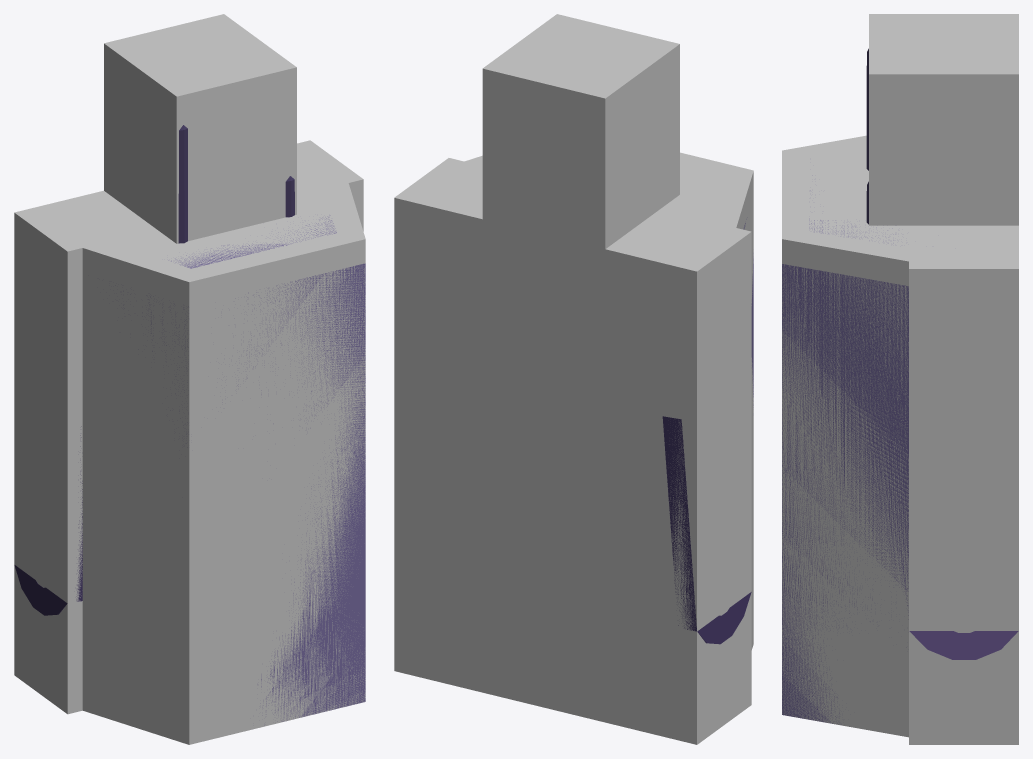
File: SM_Light_Box_01.fbx
The picture shows the model from 3 angles, left to right: view 1: azimuth 30°, elevation 25°; view 2: azimuth 150°, elevation 25°; view 3: azimuth 270°, elevation 25°; orthographic projection. The views are drawn at different scales.
Parts seen in each view (by area): view 1: SM_Light_Box_01_ConvexHulls, SM_Light_Box_01; view 2: SM_Light_Box_01_ConvexHulls, SM_Light_Box_01; view 3: SM_Light_Box_01_ConvexHulls, SM_Light_Box_01.
Part boxes in pixels (box(x1,y1,x2,y2)): SM_Light_Box_01_ConvexHulls: box(14, 14, 365, 744); SM_Light_Box_01: box(14, 125, 365, 725); SM_Light_Box_01_ConvexHulls: box(394, 14, 753, 744); SM_Light_Box_01: box(662, 217, 753, 644); SM_Light_Box_01_ConvexHulls: box(782, 14, 1018, 744); SM_Light_Box_01: box(782, 48, 1018, 724).
Size of the model in its own units: 298 by 198 by 579.
Materials: 2 (1 with a texture image).
